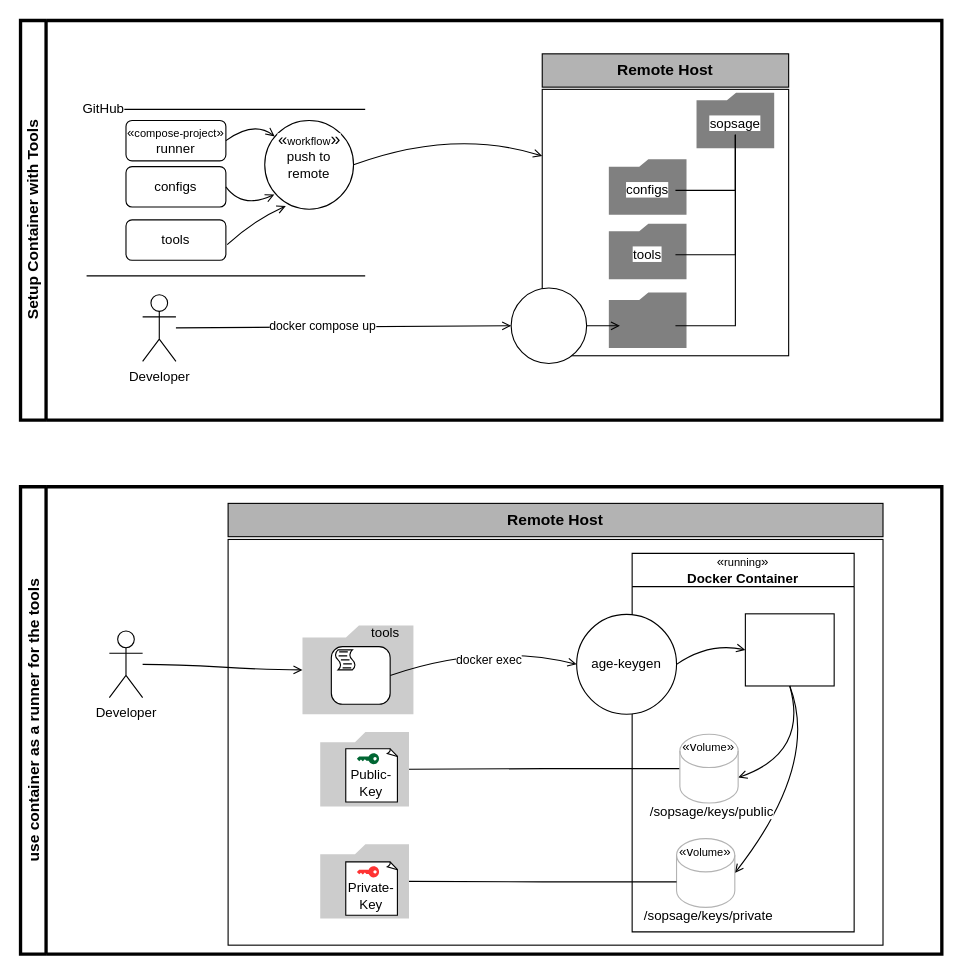
Some shapes in this 962 by 975 pixel diagram are drawn without their labels. Each missing label, with the centre of its shape:
AGE: the point at 789,649
generate-keys.sh: the point at 360,674
runner: the point at 647,319
Start sopsage container: the point at 548,325
